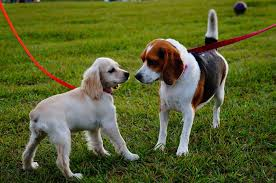dog: (129, 31, 189, 93), (81, 47, 133, 107)
